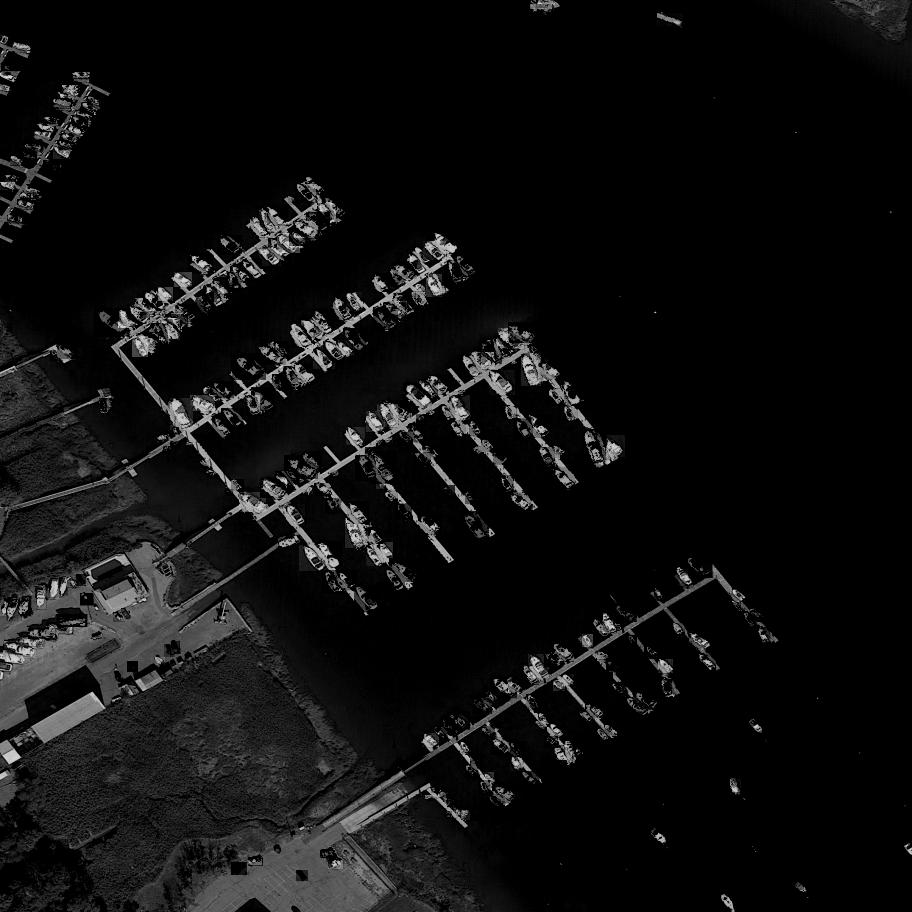ship: (581, 428, 607, 471), (95, 307, 130, 338), (232, 352, 266, 382), (461, 511, 490, 544), (371, 450, 398, 485), (285, 454, 319, 481), (300, 544, 328, 574), (354, 585, 382, 615), (170, 397, 193, 432), (431, 229, 460, 256), (403, 383, 432, 410), (390, 558, 421, 583), (489, 370, 517, 397), (317, 540, 343, 569), (684, 553, 713, 579), (323, 194, 349, 221), (345, 516, 365, 551), (489, 676, 517, 701), (522, 353, 542, 388), (527, 413, 552, 441), (256, 343, 286, 366), (508, 322, 538, 345), (291, 321, 315, 349), (312, 308, 335, 337), (354, 454, 376, 484), (300, 316, 326, 341), (251, 386, 275, 413), (343, 327, 367, 354), (373, 307, 398, 332), (551, 466, 576, 491), (480, 339, 504, 365), (454, 254, 478, 280), (394, 293, 417, 320), (382, 399, 411, 420), (624, 697, 649, 721), (601, 434, 626, 458), (528, 653, 551, 679), (240, 491, 267, 513), (187, 253, 214, 275), (261, 478, 288, 500), (348, 500, 370, 527), (498, 329, 525, 351), (450, 395, 471, 423), (563, 379, 584, 407), (323, 341, 347, 365), (268, 237, 292, 261), (4, 641, 36, 659), (143, 289, 168, 312), (307, 211, 330, 236), (204, 282, 225, 309), (334, 295, 355, 322), (322, 569, 343, 596), (378, 403, 398, 431), (292, 363, 317, 385), (314, 346, 336, 371), (688, 629, 713, 651), (461, 353, 482, 379), (492, 782, 518, 803), (385, 567, 406, 593), (633, 691, 660, 711), (259, 208, 278, 236), (222, 407, 245, 430), (419, 513, 442, 536), (218, 235, 242, 257), (423, 239, 447, 261), (551, 641, 575, 663), (240, 259, 263, 281), (429, 375, 451, 398), (211, 380, 235, 401), (212, 415, 233, 439), (160, 318, 181, 342), (613, 602, 637, 623), (470, 352, 495, 372), (508, 492, 533, 512), (296, 183, 318, 205), (127, 303, 150, 324), (191, 394, 215, 414), (383, 302, 407, 322), (135, 297, 160, 316), (554, 744, 573, 769), (150, 323, 168, 349), (278, 233, 300, 254), (267, 205, 288, 227), (305, 177, 327, 198), (648, 825, 670, 846), (695, 653, 717, 674), (259, 248, 282, 268), (287, 503, 307, 526), (419, 379, 439, 402), (448, 711, 471, 731), (513, 419, 533, 442), (318, 203, 337, 227), (295, 221, 319, 240), (366, 411, 385, 435), (521, 663, 540, 687), (284, 366, 302, 391), (537, 447, 555, 472), (426, 273, 443, 299), (231, 264, 252, 285), (674, 567, 694, 589), (591, 617, 611, 639), (541, 360, 563, 380), (250, 217, 269, 240), (197, 292, 216, 315), (57, 614, 88, 628), (393, 262, 417, 280), (494, 335, 511, 360), (175, 304, 196, 324), (214, 276, 233, 298), (366, 545, 385, 567), (7, 597, 23, 623), (137, 333, 161, 350), (276, 471, 295, 492), (491, 738, 512, 757), (339, 569, 358, 590), (347, 426, 365, 448), (388, 266, 405, 289), (166, 314, 189, 331), (202, 385, 222, 404), (565, 740, 584, 760), (408, 423, 426, 444), (46, 623, 75, 636), (448, 260, 463, 285), (245, 394, 261, 417), (603, 611, 619, 634), (658, 13, 684, 27), (289, 228, 308, 247), (414, 245, 432, 265), (58, 342, 78, 360), (585, 702, 606, 719), (307, 451, 323, 473), (28, 629, 57, 641), (279, 536, 302, 551), (394, 502, 412, 521), (120, 310, 137, 330), (520, 771, 540, 788), (346, 291, 362, 312), (132, 337, 148, 358), (498, 474, 514, 495), (530, 343, 546, 364), (19, 148, 37, 166), (747, 718, 765, 736), (578, 709, 596, 727), (548, 388, 566, 406), (408, 292, 427, 309), (720, 893, 737, 912), (474, 698, 493, 715), (546, 651, 565, 668), (17, 637, 46, 648), (174, 272, 192, 289), (439, 403, 455, 422), (484, 689, 500, 708), (451, 420, 467, 439), (375, 273, 390, 293), (337, 340, 354, 357), (72, 115, 89, 132), (749, 607, 767, 623), (550, 723, 566, 741), (325, 497, 341, 515), (441, 717, 456, 736), (368, 528, 383, 547), (158, 287, 174, 304), (604, 722, 621, 738), (397, 432, 414, 448), (469, 421, 484, 439), (564, 406, 579, 424), (81, 102, 100, 116), (661, 678, 673, 700), (228, 272, 241, 292), (657, 660, 673, 676), (424, 733, 440, 749), (424, 444, 440, 460), (274, 341, 289, 358), (58, 90, 75, 105), (488, 794, 505, 809), (644, 643, 659, 660), (52, 99, 73, 111), (414, 453, 432, 467), (526, 694, 540, 712), (758, 627, 771, 646), (415, 284, 430, 300), (44, 160, 60, 175), (17, 199, 37, 211), (36, 121, 56, 133), (13, 42, 33, 54), (794, 881, 810, 896), (511, 742, 526, 758), (597, 727, 612, 743), (53, 146, 70, 160), (470, 753, 484, 770), (381, 542, 395, 559), (434, 726, 448, 743), (508, 679, 525, 693), (493, 452, 510, 466), (510, 755, 523, 773), (539, 710, 552, 728), (67, 125, 86, 137), (733, 588, 748, 603), (481, 437, 496, 452), (671, 622, 685, 638), (612, 682, 628, 696), (272, 374, 285, 391), (314, 484, 331, 497), (27, 183, 44, 196), (0, 600, 13, 617), (3, 173, 21, 185), (76, 110, 94, 122), (551, 445, 566, 459), (731, 777, 742, 796), (478, 779, 491, 795), (745, 612, 757, 629), (61, 133, 79, 144), (466, 766, 480, 780), (59, 139, 75, 151), (505, 406, 517, 422), (44, 114, 61, 125), (38, 586, 46, 609), (530, 5, 553, 13), (231, 479, 244, 493), (384, 490, 398, 503), (35, 130, 53, 140), (24, 145, 44, 154), (1, 63, 21, 72), (50, 579, 59, 599), (23, 597, 32, 617), (288, 468, 299, 484), (545, 736, 559, 748), (11, 156, 26, 167), (59, 578, 68, 596), (554, 680, 567, 692), (562, 674, 575, 686), (606, 662, 619, 674), (444, 485, 456, 498), (87, 96, 101, 107), (461, 741, 472, 755), (583, 634, 594, 648), (655, 586, 665, 601), (484, 773, 496, 785), (626, 635, 638, 647), (534, 721, 547, 732), (8, 216, 25, 224), (0, 183, 15, 192), (483, 726, 495, 737), (596, 651, 609, 661), (465, 492, 475, 505), (22, 194, 38, 202), (103, 387, 112, 401), (416, 415, 427, 426), (366, 447, 377, 458), (51, 350, 61, 362), (473, 447, 486, 456), (63, 86, 79, 93), (155, 657, 166, 667), (557, 759, 567, 770), (376, 479, 386, 490), (170, 441, 181, 451), (99, 398, 107, 411), (426, 409, 436, 419), (462, 811, 472, 821), (376, 440, 386, 450), (490, 721, 501, 730), (605, 672, 614, 683), (73, 73, 91, 78), (383, 435, 393, 444), (509, 358, 519, 367), (305, 486, 314, 496), (733, 599, 741, 610), (289, 196, 297, 206), (459, 390, 468, 398), (331, 470, 340, 478), (160, 434, 168, 443), (201, 461, 209, 469), (441, 791, 448, 800), (206, 470, 216, 476), (174, 427, 180, 436), (225, 490, 234, 496), (157, 437, 164, 444), (451, 799, 457, 807), (163, 447, 169, 453), (186, 443, 193, 447), (425, 795, 431, 799), (448, 800, 451, 807), (445, 812, 452, 815), (457, 808, 460, 815), (211, 474, 218, 477), (432, 788, 436, 793), (439, 791, 444, 795), (166, 434, 170, 438), (443, 799, 444, 802)
small-vehicle: (232, 861, 248, 876), (80, 593, 93, 608), (121, 608, 134, 622), (329, 860, 344, 871), (297, 870, 308, 884), (127, 660, 138, 674), (165, 644, 176, 658), (326, 853, 339, 864), (114, 612, 125, 624), (68, 577, 79, 589), (76, 574, 87, 586), (320, 849, 334, 858), (171, 641, 180, 655), (249, 857, 263, 865), (115, 671, 123, 683)
